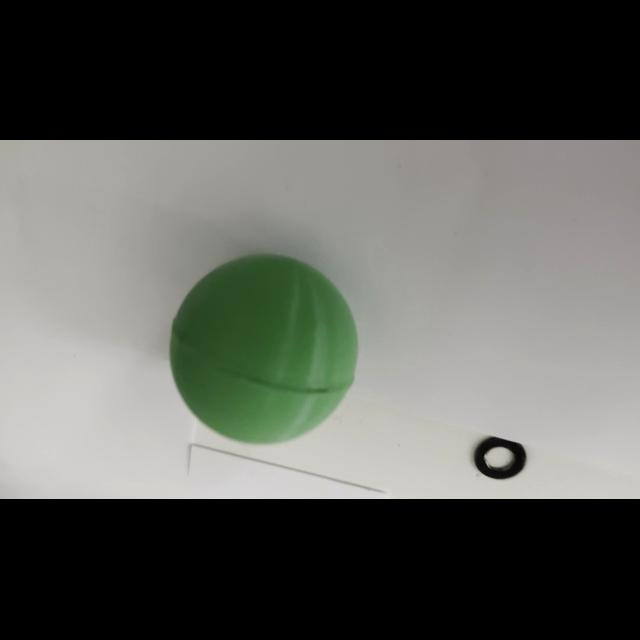objects: (166, 246, 364, 449)
